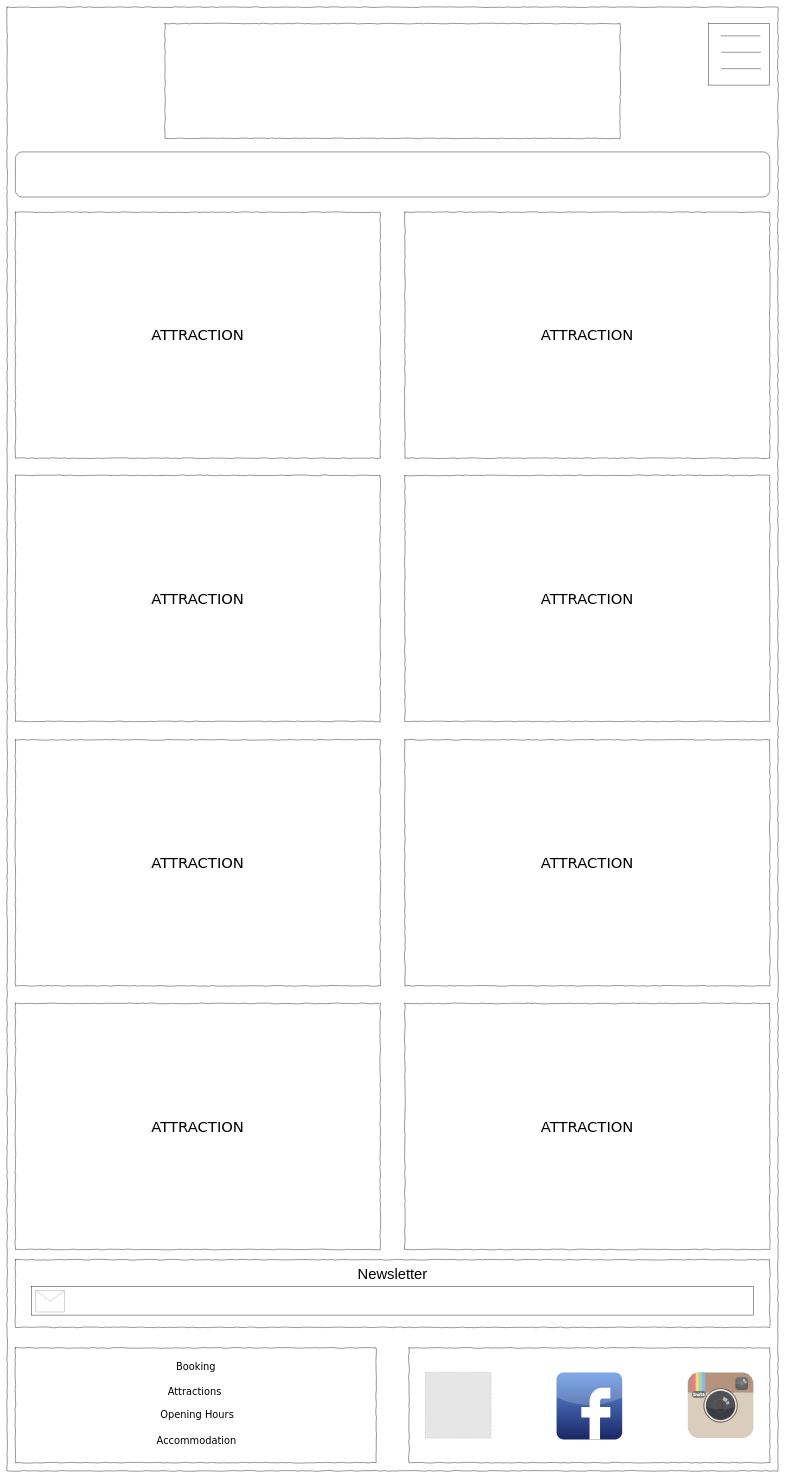
The diagram is 785 pixels wide and 1478 high, and some of its shapes have lost their labels. Grey dashed boxes stand in for pictures. The shapes that lost their labels are listed below. From the top down, each one's box as (x1, y1, x2, y2) in pixels, then its label:
(165, 23, 620, 138): LOGO
(15, 151, 770, 197): CTA BOOK HERE
(31, 1286, 753, 1315): YOUR EMAIL ADDRESS
